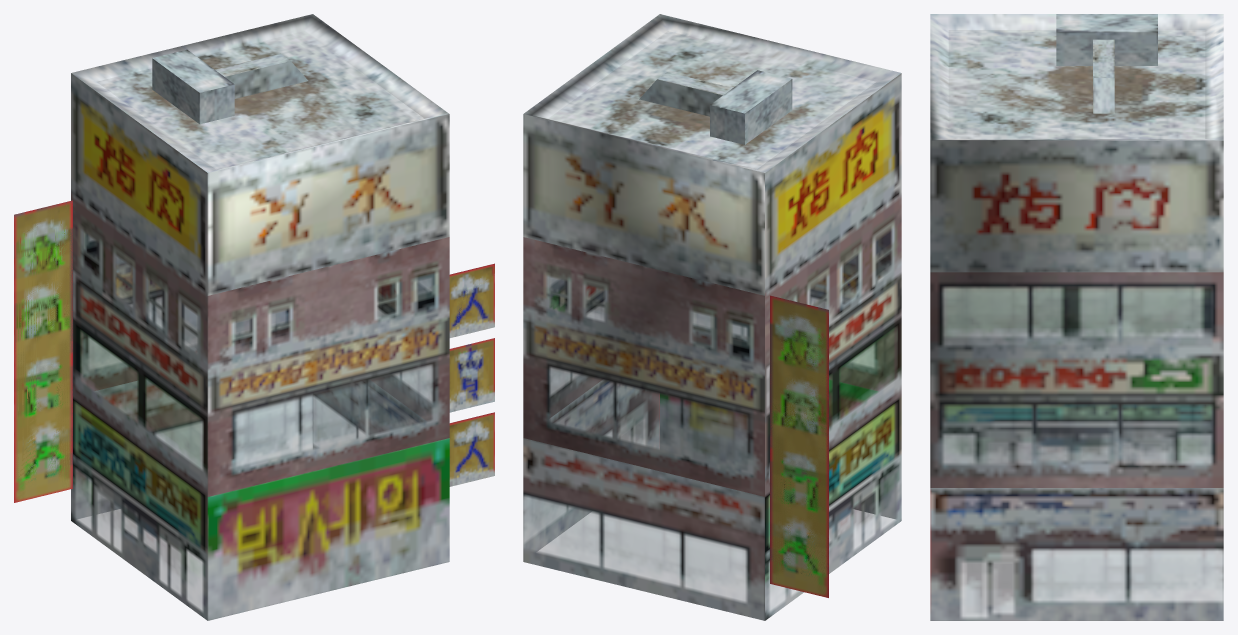
Rendered from Civilian - Commercial Building - Asian Retail Store 02 - Snow and Night - CBNRetal02_SN.glb.
The picture shows the model from 3 angles, left to right: view 1: azimuth 30°, elevation 25°; view 2: azimuth 150°, elevation 25°; view 3: azimuth 270°, elevation 25°; orthographic projection. The views are drawn at different scales.
Visible parts, largest first — view 1: CBNRETAL02_SN; view 2: CBNRETAL02_SN; view 3: CBNRETAL02_SN.
Part boxes in pixels (x1=…): CBNRETAL02_SN: x1=14, y1=14, x2=494, y2=620; CBNRETAL02_SN: x1=523, y1=14, x2=901, y2=620; CBNRETAL02_SN: x1=930, y1=14, x2=1223, y2=620.
Bounding box in the file's own units: 42.97 × 55.27 × 28.97.
1 material, 1 textured.
